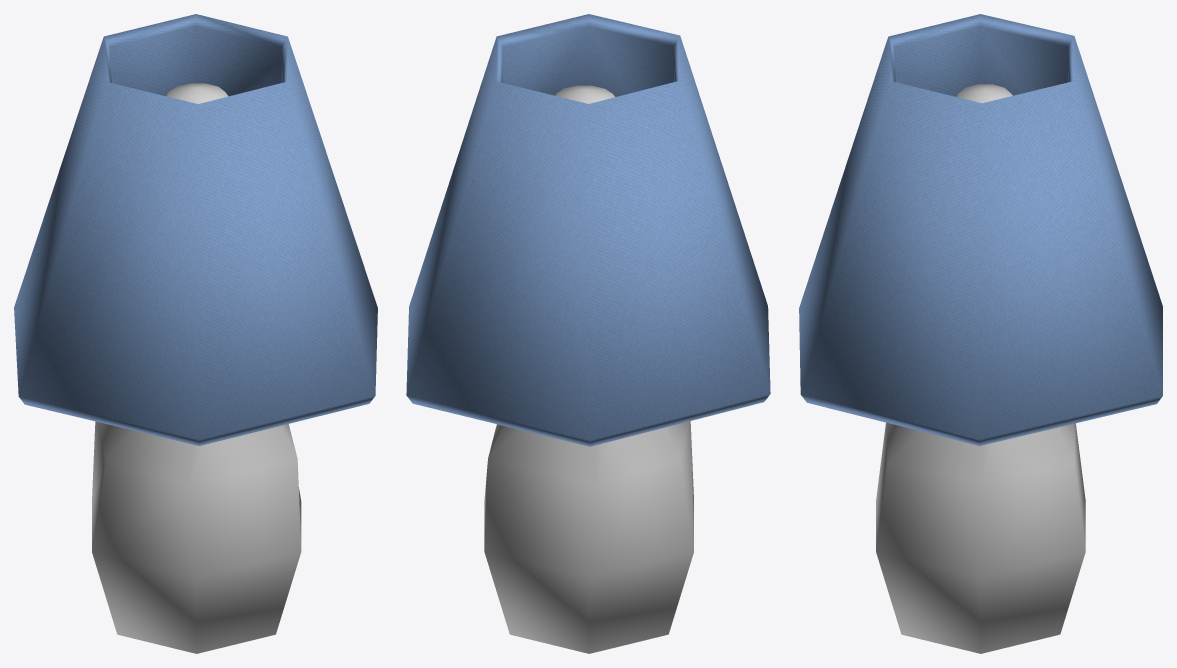
The model's file is Small_Lamp_G.FBX.
3 renders of one model, left to right at view 1: azimuth 30°, elevation 25°; view 2: azimuth 150°, elevation 25°; view 3: azimuth 270°, elevation 25°, orthographic.
Parts seen in each view (by area): view 1: Kid's Lamp; view 2: Kid's Lamp; view 3: Kid's Lamp.
Boxes of the visible parts, x1,y1,x2,y2 form: Kid's Lamp: (14, 14, 377, 653); Kid's Lamp: (406, 14, 770, 653); Kid's Lamp: (799, 14, 1162, 653).
Bounding box in the file's own units: 68.11 × 100 × 59.49.
